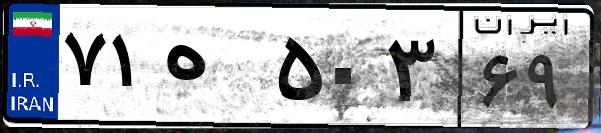0: (330, 28, 385, 110)
1: (110, 28, 158, 98)
3: (385, 28, 445, 110)
5: (270, 28, 330, 110)
6: (475, 38, 525, 113)
7: (57, 26, 110, 100)
9: (525, 38, 570, 115)
ه: (158, 20, 270, 120)
